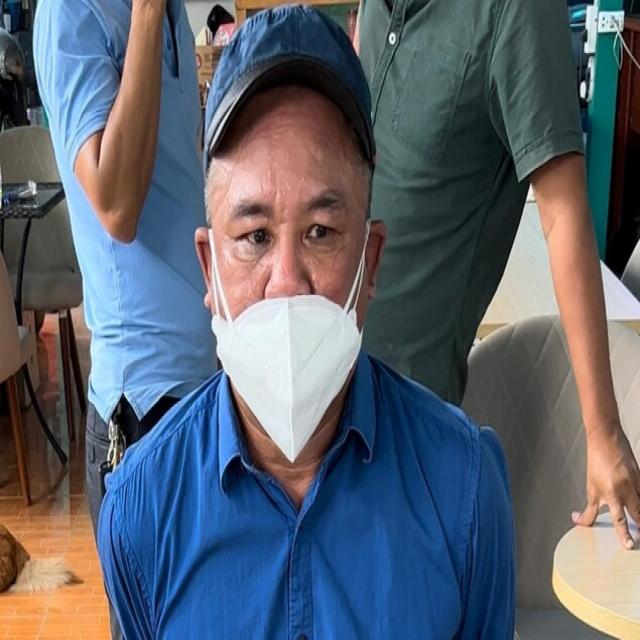Cap: (203, 3, 376, 172)
